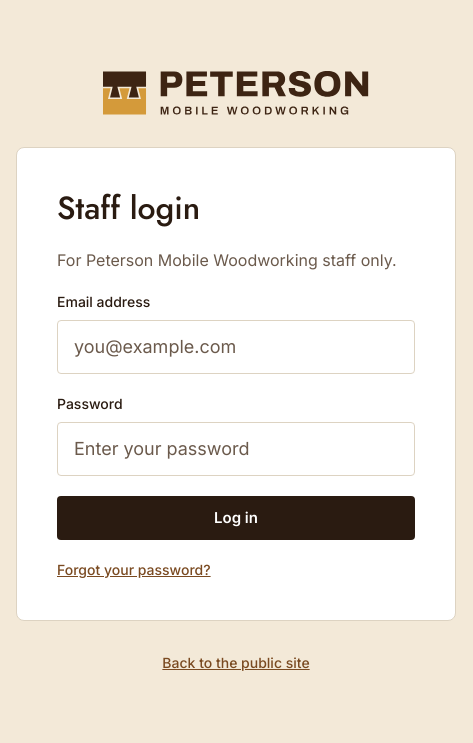
StaffLoginPage › closes the wrong password banner when it is dismissed
In the field labelled "Email address": (236, 347) x1=57 y1=320 x2=415 y2=374, type "todd@example.com"
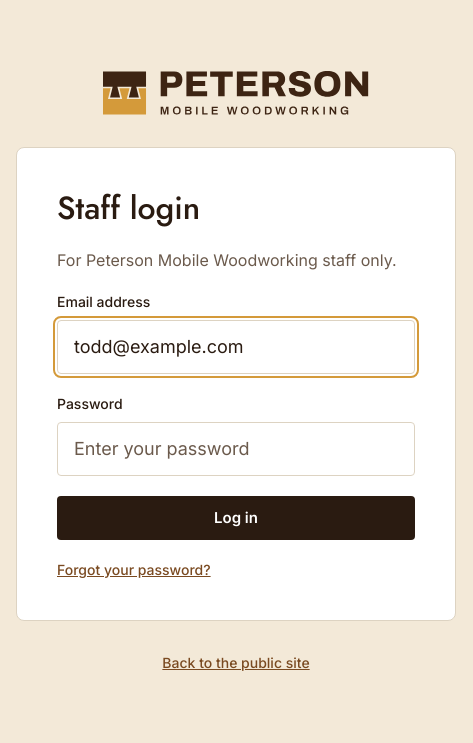
In the password field labelled "Password": (236, 449) x1=57 y1=422 x2=415 y2=476, type "not-the-password"
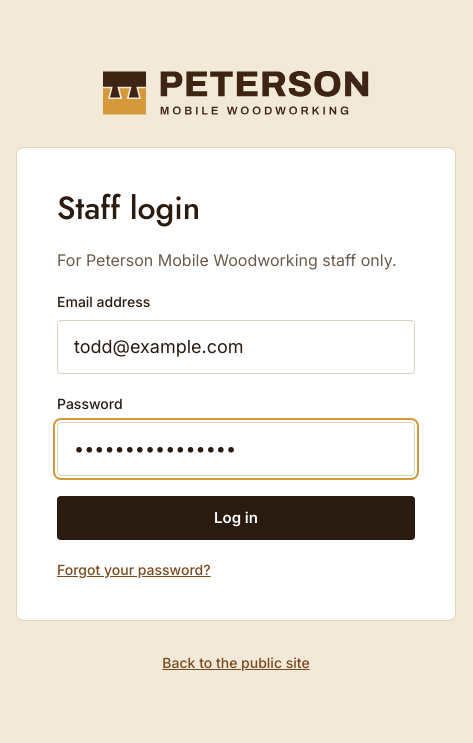
Click the button "Log in": (236, 518) x1=57 y1=496 x2=415 y2=540
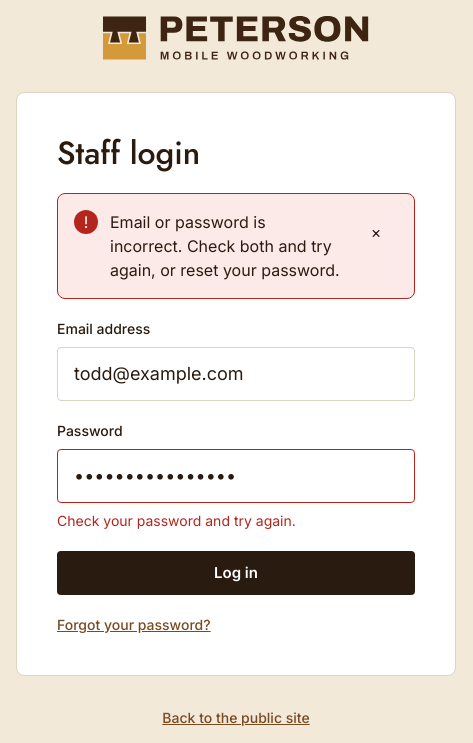
Click the button named "Dismiss error": (376, 232) x1=354 y1=210 x2=398 y2=254
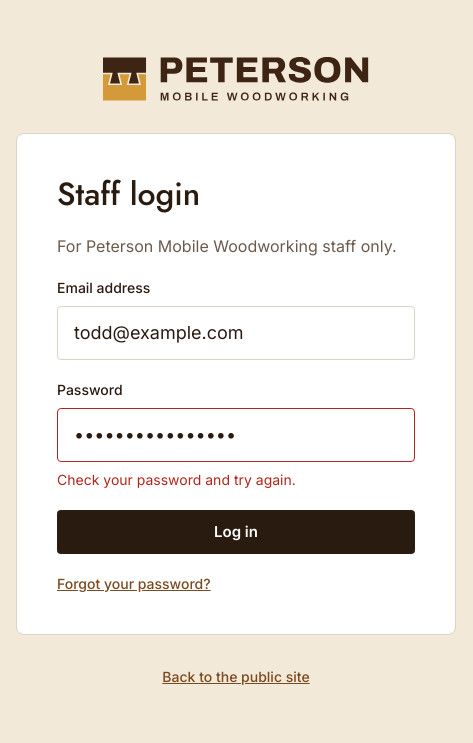
Now the text "Email or password is incorrect" is gone
